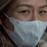with_mask: (1, 2, 47, 47)
